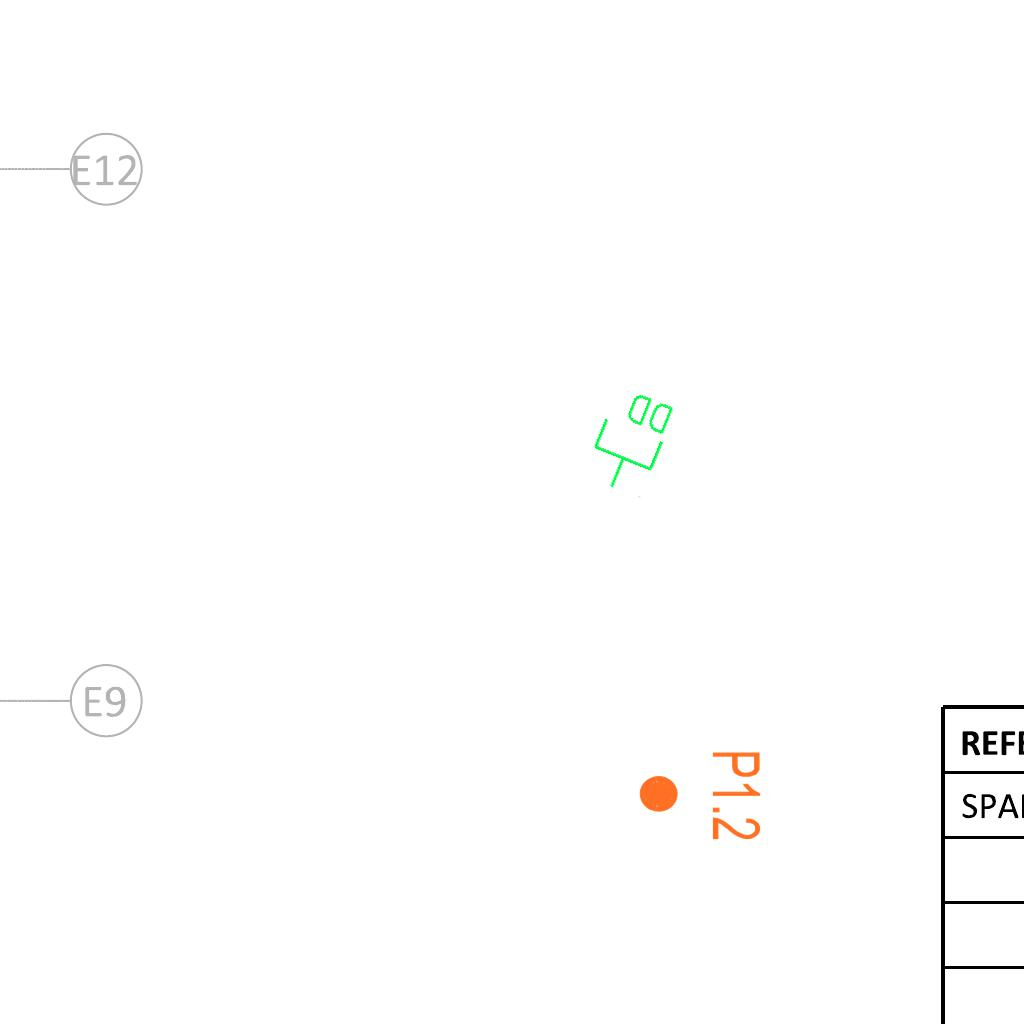Datenanschluss_zweifach: (579, 380, 682, 503)
Downlight_LED_Einbauleuchten_Flur: (636, 749, 764, 842)
